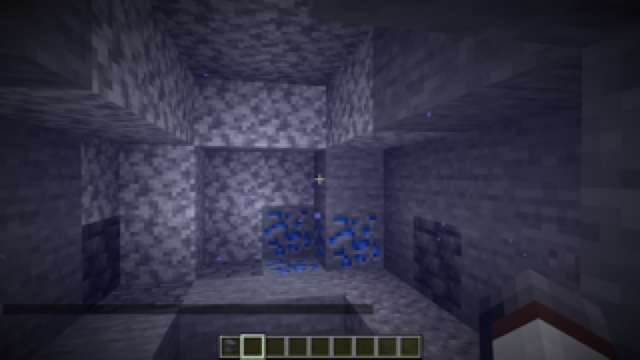lapis: (261, 204, 385, 276)
